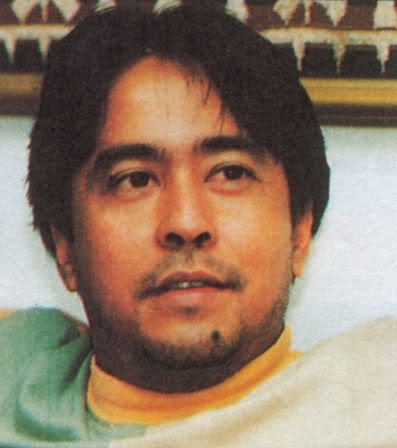tahilalat: (209, 329, 224, 344)
